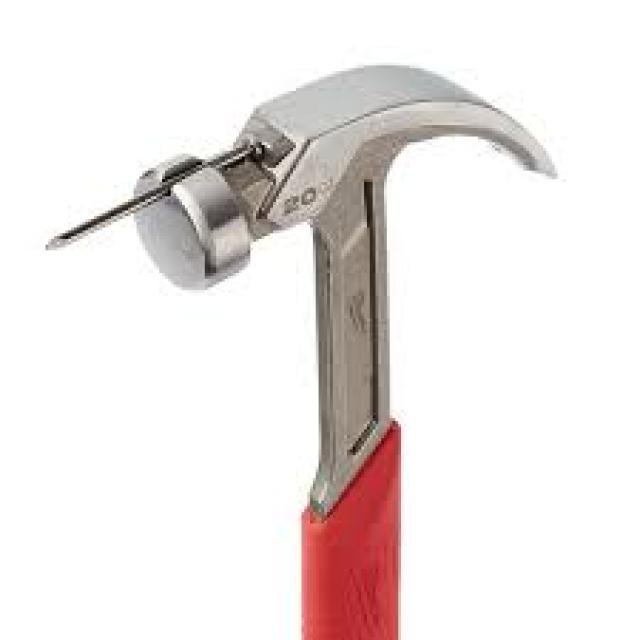Palu: (117, 44, 569, 640)
